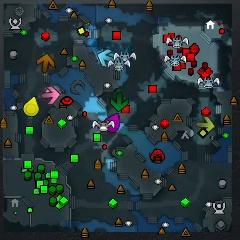p3: (104, 113, 120, 132)
p4: (23, 96, 39, 117)
x1: (42, 86, 60, 104)
x2: (196, 116, 214, 133)
x3: (98, 49, 113, 67)
x4: (111, 93, 129, 112)
x5: (36, 53, 54, 73)
